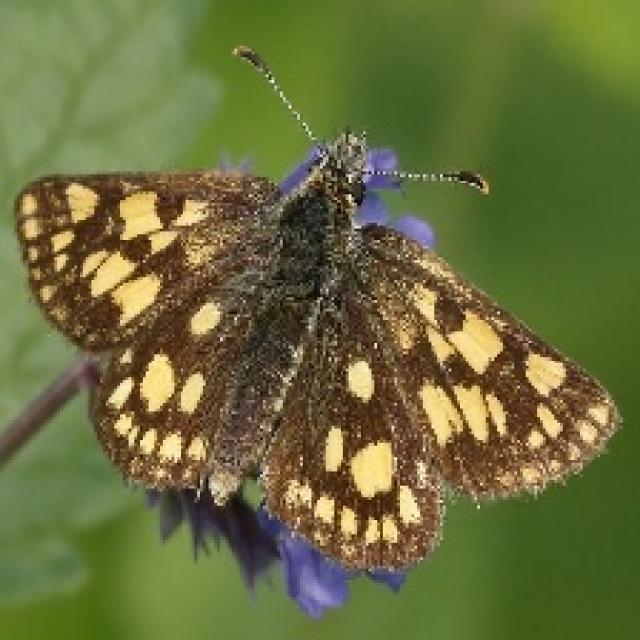butterfly: (11, 40, 623, 583)
